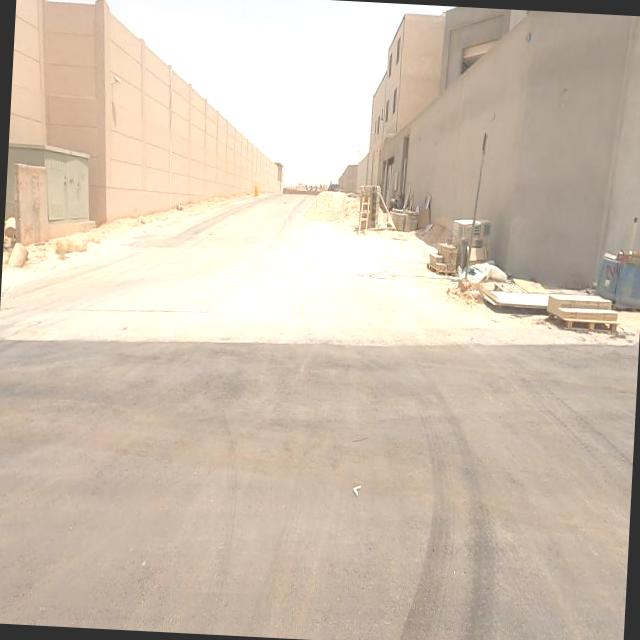debris: (398, 165, 458, 268), (385, 168, 434, 234)
